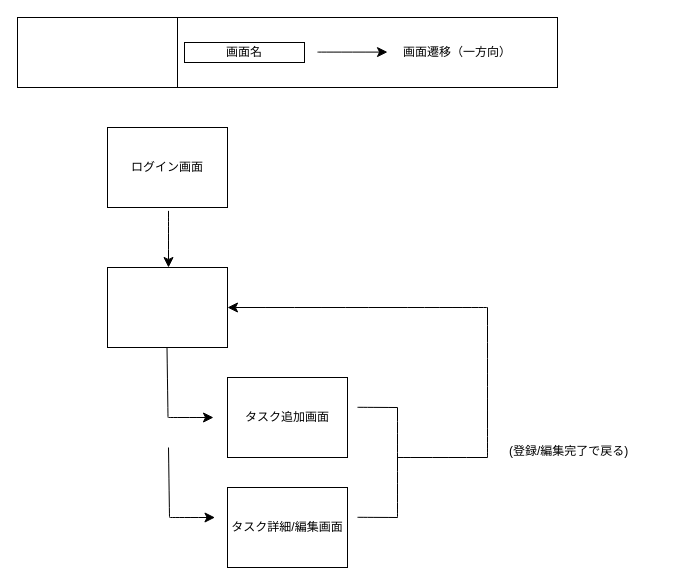
The diagram is 675 pixels wide and 585 high, and some of its shapes have lost their labels. Here are the shapes that lost their labels. From the top down, the centre of each, then its label:
At point 97,52: "画面遷移図".
At point 167,307: "タスク一覧画面".
